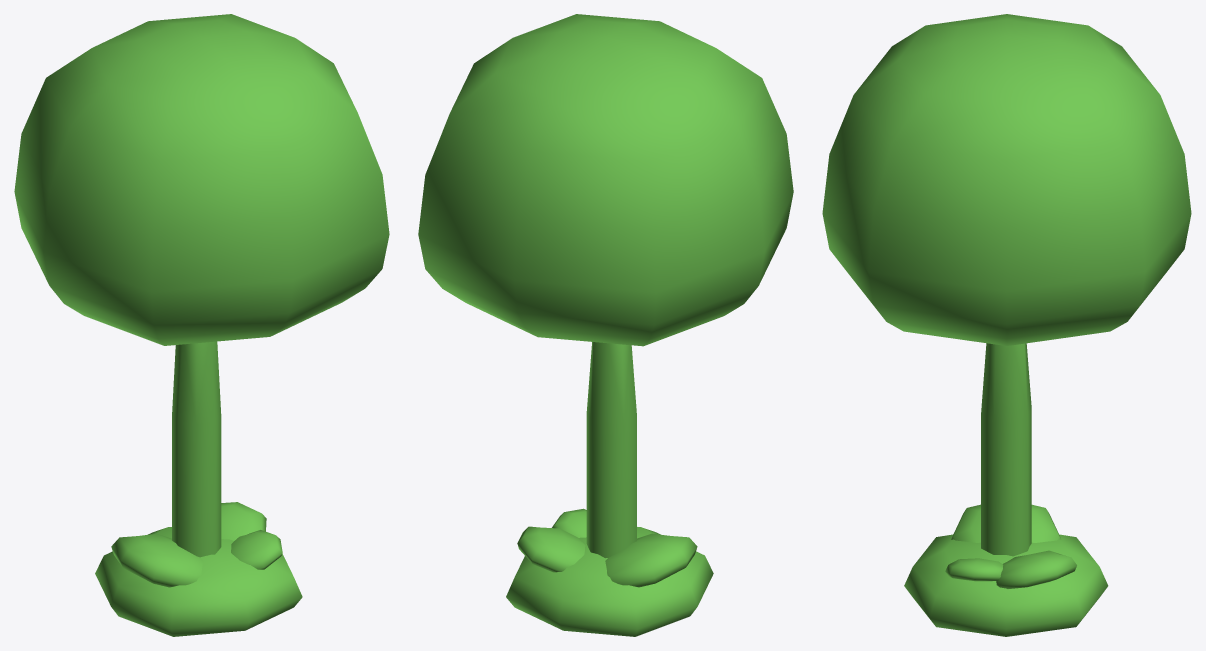
Rendered from Tree.fbx.
3 renders of one model, left to right at view 1: azimuth 30°, elevation 25°; view 2: azimuth 150°, elevation 25°; view 3: azimuth 270°, elevation 25°, orthographic.
Visible parts, largest first — view 1: Tree; view 2: Tree; view 3: Tree.
Part boxes in pixels (x1,y1,x2,y2): Tree: (14,14,389,636); Tree: (418,14,793,636); Tree: (822,14,1191,636).
Size of the model in its own units: 87.58 by 147 by 87.58.
